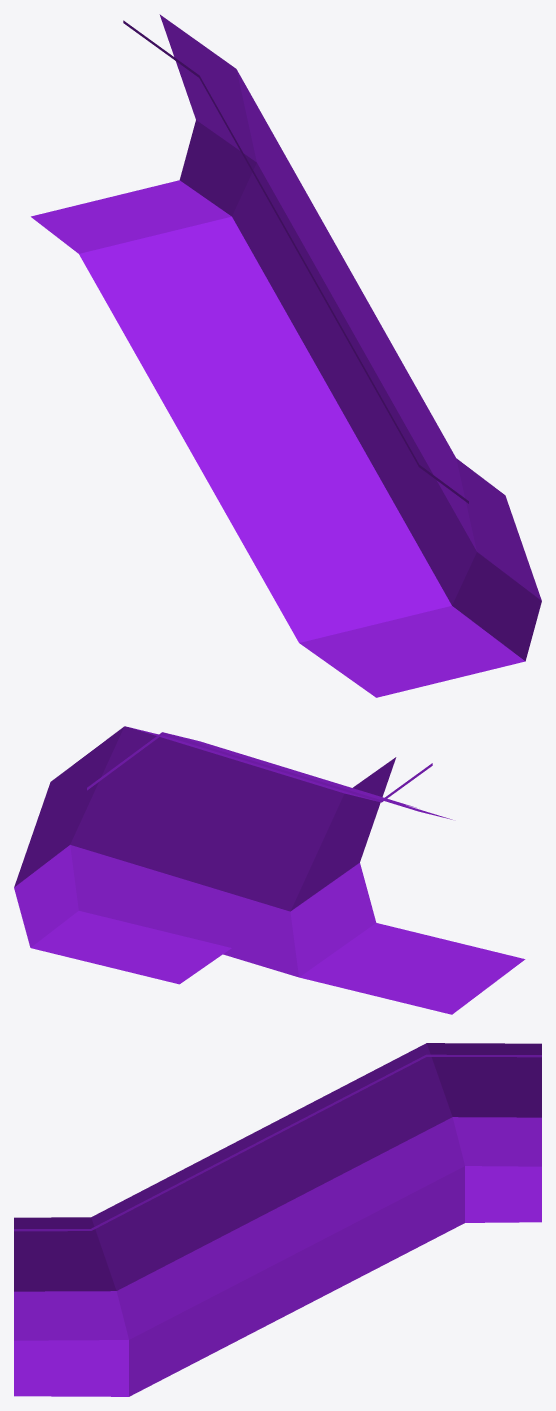
File: corridor_segment.005.glb
The picture shows the model from 3 angles, top to bottom: view 1: azimuth 30°, elevation 25°; view 2: azimuth 150°, elevation 25°; view 3: azimuth 270°, elevation 25°; orthographic projection. The views are drawn at different scales.
Visible parts, largest first — view 1: Corridor_segment.005; view 2: Corridor_segment.005; view 3: Corridor_segment.005.
Part boxes in pixels (box(x1,y1,x2,y2)): Corridor_segment.005: box(31, 14, 541, 697); Corridor_segment.005: box(14, 726, 525, 1014); Corridor_segment.005: box(14, 1043, 541, 1396).
Bounding box in the file's own units: 3.43 × 7.05 × 11.
